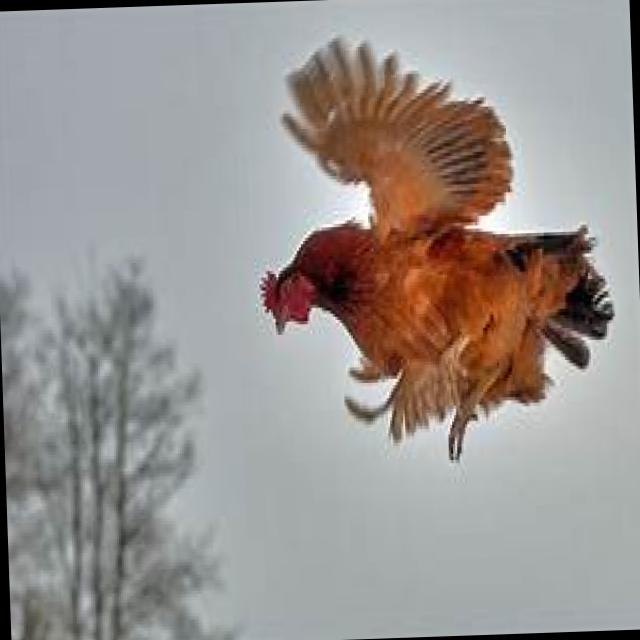animal: (247, 22, 621, 475)
